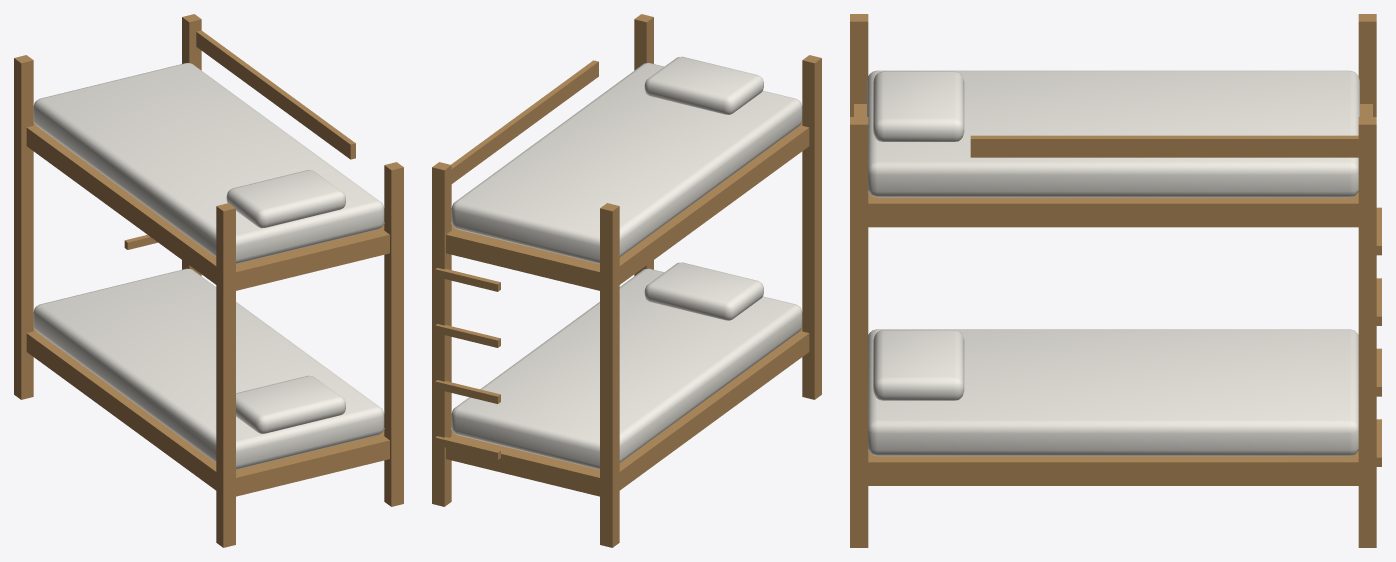
File: furniture.home.bunk_bed.glb
The picture shows the model from 3 angles, left to right: view 1: azimuth 30°, elevation 25°; view 2: azimuth 150°, elevation 25°; view 3: azimuth 270°, elevation 25°; orthographic projection. The views are drawn at different scales.
Parts seen in each view (by area): view 1: main__fabric_white, main__softwood; view 2: main__fabric_white, main__softwood; view 3: main__fabric_white, main__softwood.
Part boxes in pixels (x1,y1,x2,y2): main__fabric_white: (33, 63, 384, 469); main__softwood: (14, 14, 403, 547); main__fabric_white: (451, 56, 802, 469); main__softwood: (432, 14, 821, 547); main__fabric_white: (867, 70, 1359, 456); main__softwood: (850, 14, 1381, 547).
Bounding box in the file's own units: 1.01 × 1.8 × 2.05.
